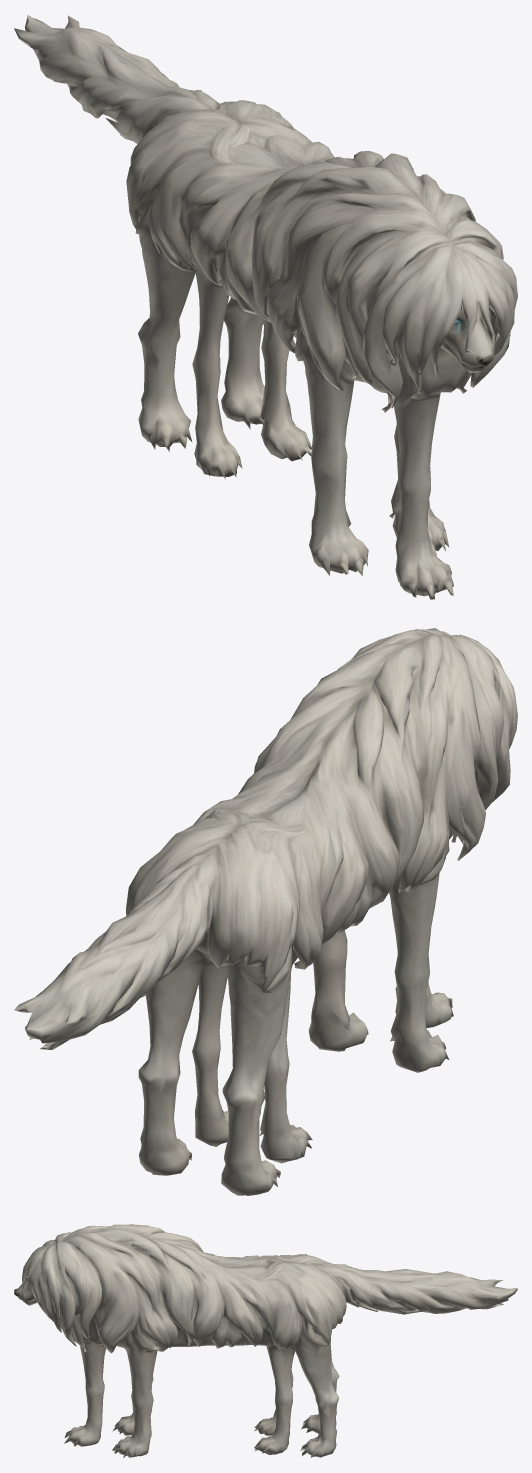
Rendered from jangsanbeom_tripo_2d1f5bca_raw.glb.
3 views of the same model, one above another, from view 1: azimuth 30°, elevation 25°; view 2: azimuth 150°, elevation 25°; view 3: azimuth 270°, elevation 25° (orthographic). The views are drawn at different scales.
Parts seen in each view (by area): view 1: tripo_node_33b245d4-c4c9-414d-9e86-90e6af8a5574; view 2: tripo_node_33b245d4-c4c9-414d-9e86-90e6af8a5574; view 3: tripo_node_33b245d4-c4c9-414d-9e86-90e6af8a5574.
Boxes of the visible parts, box(x1,y1,x2,y2) form: tripo_node_33b245d4-c4c9-414d-9e86-90e6af8a5574: box(14, 14, 517, 599); tripo_node_33b245d4-c4c9-414d-9e86-90e6af8a5574: box(14, 628, 517, 1195); tripo_node_33b245d4-c4c9-414d-9e86-90e6af8a5574: box(14, 1224, 517, 1457).
Bounding box in the file's own units: 0.2087 × 0.4639 × 0.9831.
Materials: 1 (1 with a texture image).
